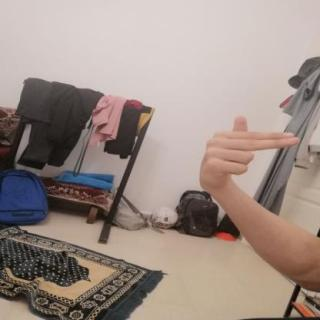GHAYN: (193, 110, 307, 196)
